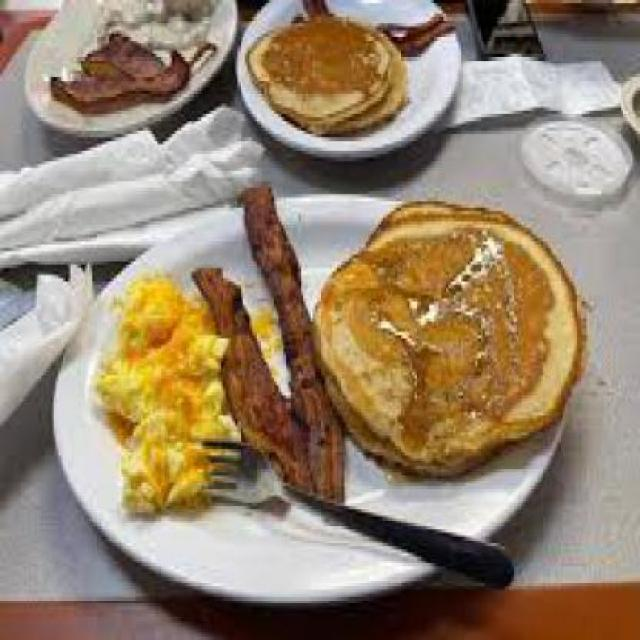omelette: (90, 258, 233, 510)
pancakes: (315, 191, 587, 475), (242, 17, 412, 128)
